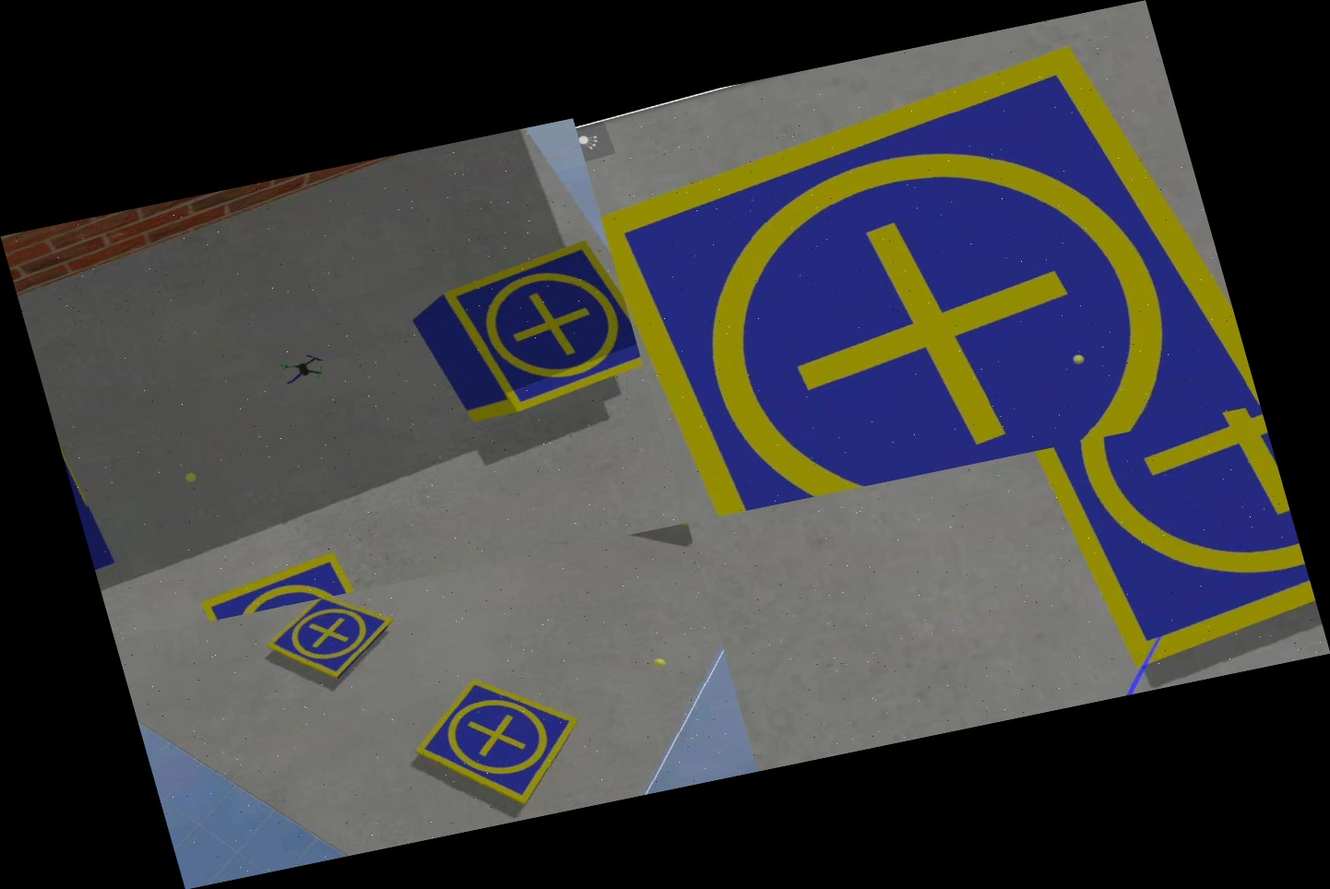small_base: (580, 25, 1259, 523), (1015, 405, 1325, 687), (430, 231, 649, 422), (393, 656, 608, 832), (256, 584, 412, 693), (194, 548, 379, 622)
